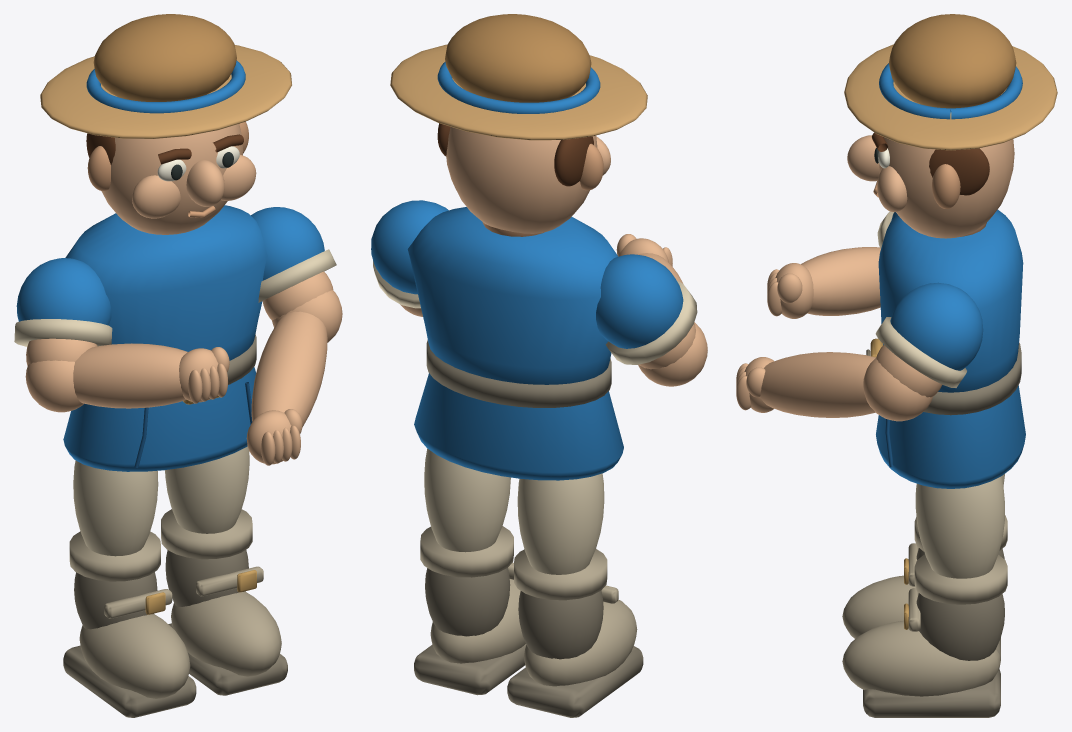
Rendered from boer_maaien.glb.
3 renders of one model, left to right at view 1: azimuth 30°, elevation 25°; view 2: azimuth 150°, elevation 25°; view 3: azimuth 270°, elevation 25°, orthographic. The views are drawn at different scales.
Parts seen in each view (by area): view 1: Tunic_torso.004, Tunic_skirt.004, Straw_hat_crown, Straw_hat_brim, Boot_toe.008, Boot_toe.009, Head.004, Trouser_leg.008, Right_Forearm.004, Left_Forearm.004, Trouser_leg.009, Right_Sleeve.004 (+24 smaller); view 2: Tunic_torso.004, Tunic_skirt.004, Straw_hat_crown, Head.004, Straw_hat_brim, Trouser_leg.008, Trouser_leg.009, Right_Sleeve.004, Boot_shaft.008, Boot_shaft.009, Belt.004, Boot_toe.008 (+14 smaller); view 3: Tunic_torso.004, Tunic_skirt.004, Straw_hat_crown, Straw_hat_brim, Boot_toe.009, Trouser_leg.009, Head.004, Left_Forearm.004, Left_Sleeve.004, Right_Forearm.004, Boot_shaft.009, Boot_sole.009 (+14 smaller).
Boxes of the visible parts, x1,y1,x2,y2 form: Tunic_torso.004: [65, 205, 267, 360]; Tunic_skirt.004: [63, 367, 256, 471]; Straw_hat_crown: [93, 14, 236, 101]; Straw_hat_brim: [40, 45, 291, 138]; Boot_toe.008: [79, 614, 190, 698]; Boot_toe.009: [171, 591, 281, 676]; Head.004: [101, 124, 243, 234]; Trouser_leg.008: [73, 460, 158, 556]; Right_Forearm.004: [73, 343, 187, 408]; Left_Forearm.004: [251, 311, 327, 427]; Trouser_leg.009: [165, 446, 249, 533]; Right_Sleeve.004: [16, 258, 111, 325]; Tunic_torso.004: [407, 207, 618, 384]; Tunic_skirt.004: [414, 373, 623, 480]; Straw_hat_crown: [445, 14, 591, 102]; Head.004: [446, 126, 597, 233]; Straw_hat_brim: [390, 44, 647, 140]; Trouser_leg.008: [517, 473, 604, 574]; Trouser_leg.009: [424, 448, 510, 552]; Right_Sleeve.004: [596, 254, 683, 348]; Boot_shaft.008: [518, 590, 603, 659]; Boot_shaft.009: [425, 568, 510, 636]; Belt.004: [426, 340, 611, 407]; Boot_toe.008: [524, 599, 637, 686]; Tunic_torso.004: [878, 209, 1023, 392]; Tunic_skirt.004: [876, 385, 1025, 488]; Straw_hat_crown: [889, 14, 1016, 108]; Straw_hat_brim: [844, 44, 1057, 150]; Boot_toe.009: [842, 620, 1000, 696]; Trouser_leg.009: [915, 476, 1004, 578]; Head.004: [879, 137, 1014, 238]; Left_Forearm.004: [760, 352, 875, 417]; Left_Sleeve.004: [890, 282, 983, 370]; Right_Forearm.004: [801, 247, 880, 315]; Boot_shaft.009: [916, 593, 1004, 660]; Boot_sole.009: [863, 669, 1000, 717].
Bounding box in the file's own units: 1.05 × 2.1 × 0.933.
